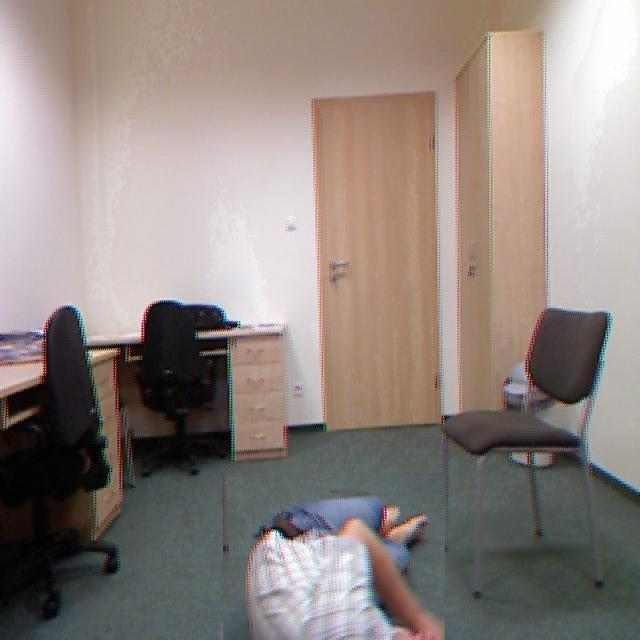Fall: (227, 482, 460, 640)
